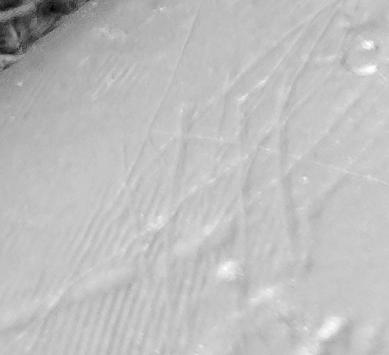scratch: (0, 1, 389, 355)
